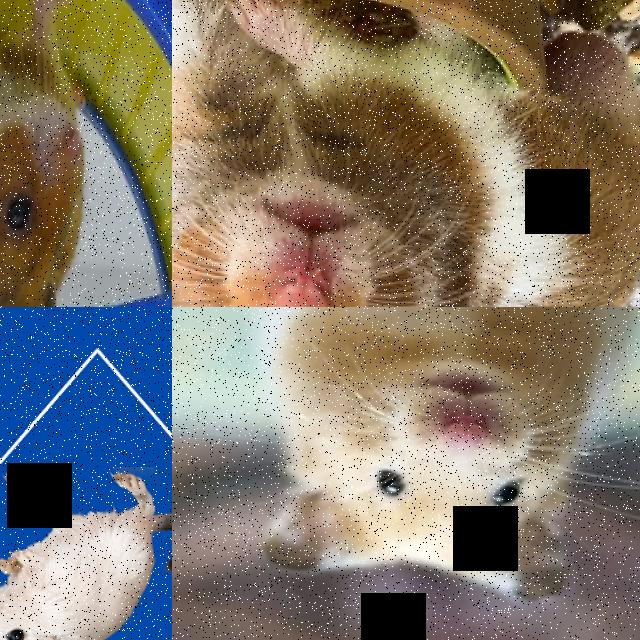hamster: (172, 0, 640, 307), (246, 307, 640, 607), (0, 0, 86, 307)
